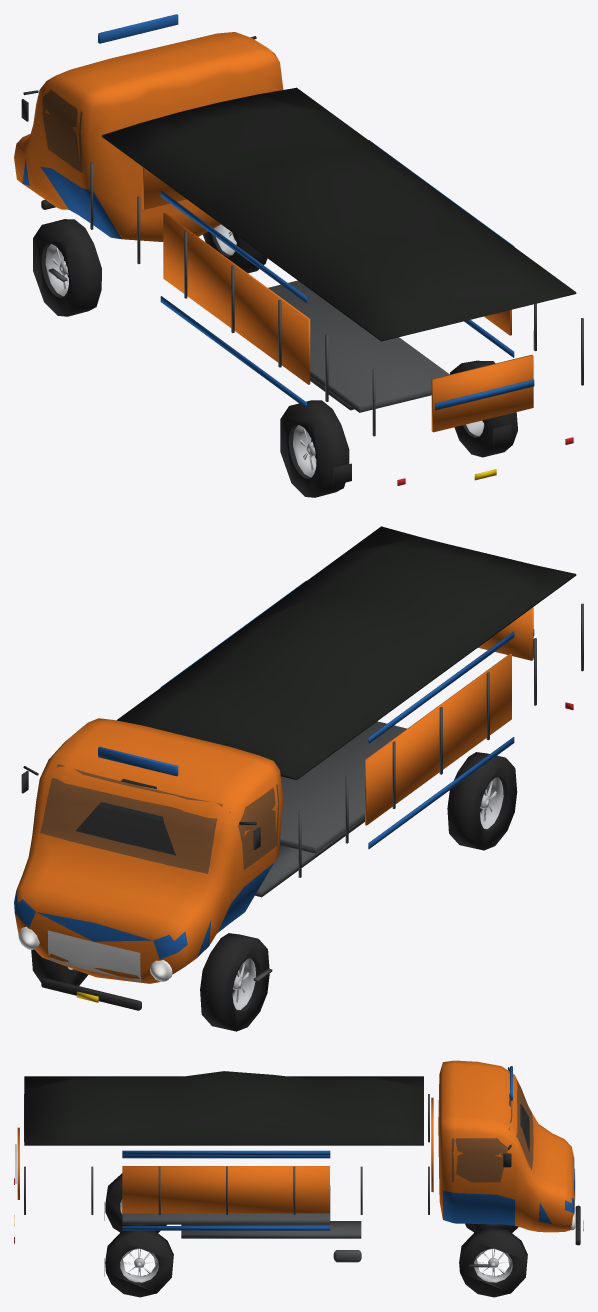
The model's file is lorry_0_lo.glb.
3 views of the same model, one above another, from view 1: azimuth 30°, elevation 25°; view 2: azimuth 150°, elevation 25°; view 3: azimuth 270°, elevation 25° (orthographic). The views are drawn at different scales.
Visible parts, largest first — view 1: body, wheel_0, wheel_2, wheel_3, wheel_1; view 2: body, wheel_0, wheel_2, wheel_1; view 3: body, wheel_1, wheel_3, wheel_2.
Part boxes in pixels (left/top/right/bottom): body: left=14, top=14, right=583, bottom=485; wheel_0: left=33, top=219, right=101, bottom=316; wheel_2: left=280, top=400, right=349, bottom=497; wheel_3: left=450, top=360, right=517, bottom=457; wheel_1: left=202, top=224, right=267, bottom=273; body: left=14, top=526, right=583, bottom=1010; wheel_0: left=200, top=933, right=269, bottom=1031; wheel_2: left=447, top=752, right=517, bottom=850; wheel_1: left=31, top=949, right=88, bottom=985; body: left=14, top=1060, right=583, bottom=1276; wheel_1: left=459, top=1227, right=527, bottom=1297; wheel_3: left=105, top=1230, right=173, bottom=1297; wheel_2: left=105, top=1173, right=166, bottom=1232.
Bounding box in the file's own units: 2.78 × 2.94 × 8.21.
